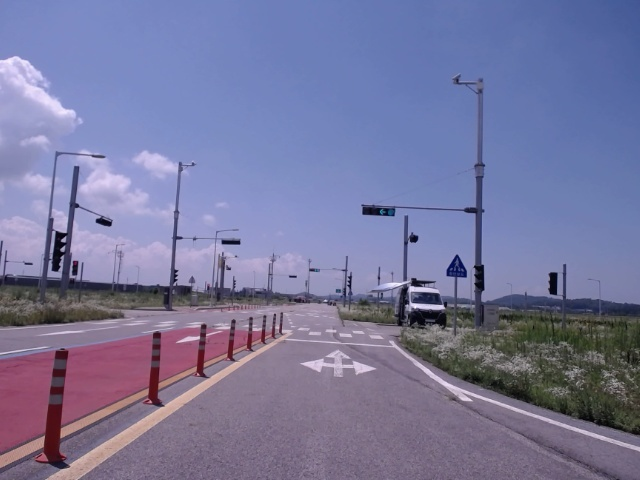all_green_4: (362, 205, 398, 218)
